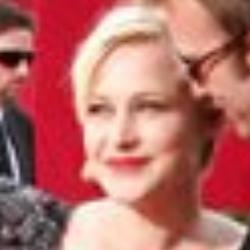face: (54, 1, 208, 216), (167, 1, 250, 153), (1, 3, 49, 108)
